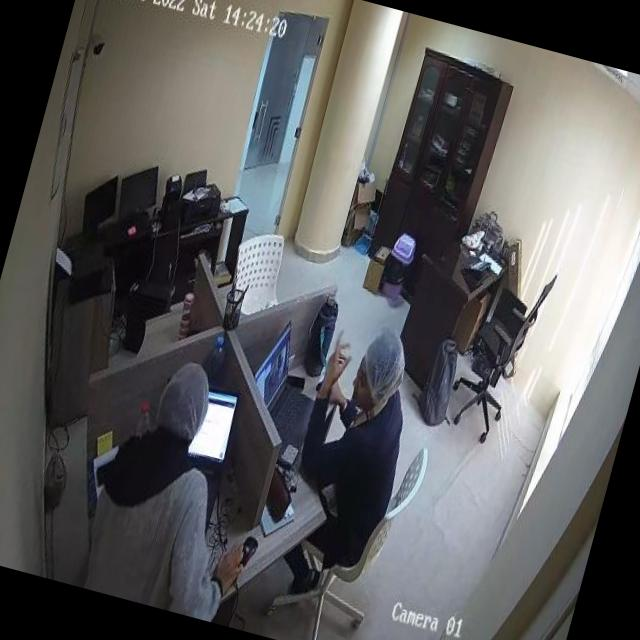hairnet: (352, 328, 411, 411), (158, 362, 215, 437)
